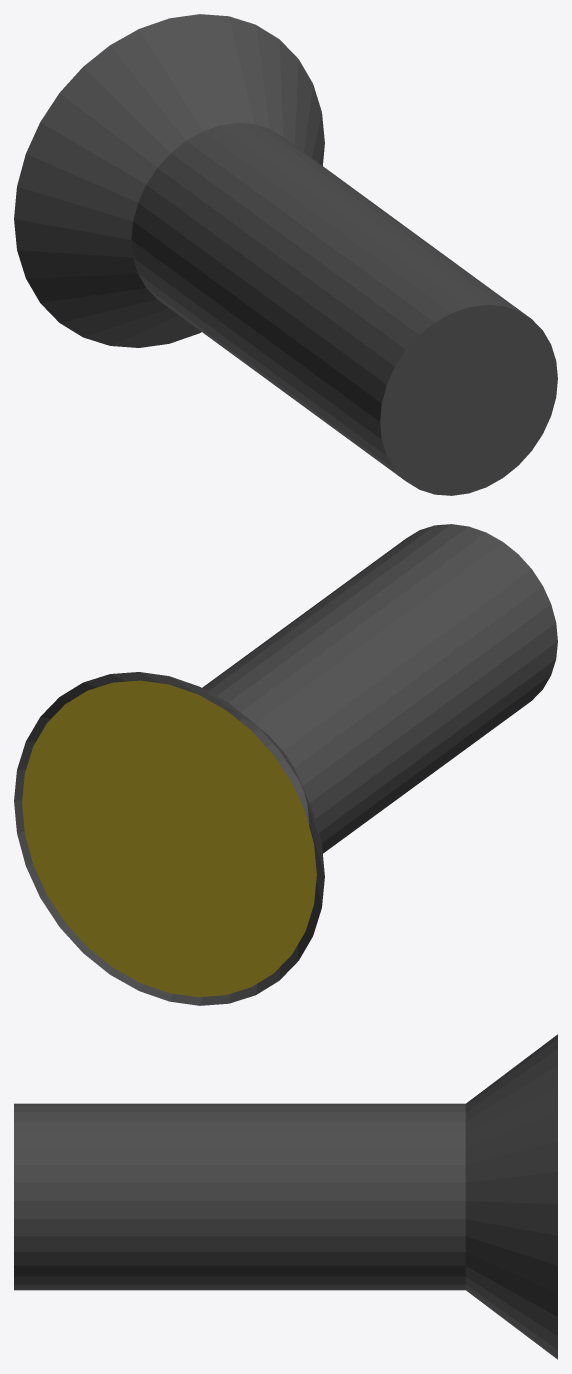
Rendered from Torch.fbx.
3 views of the same model, one above another, from view 1: azimuth 30°, elevation 25°; view 2: azimuth 150°, elevation 25°; view 3: azimuth 270°, elevation 25° (orthographic). The views are drawn at different scales.
Visible parts, largest first — view 1: Cylinder; view 2: Cylinder; view 3: Cylinder.
Boxes of the visible parts, bbox=[...] form: Cylinder: bbox=[14, 14, 557, 495]; Cylinder: bbox=[14, 524, 557, 1005]; Cylinder: bbox=[14, 1034, 557, 1359].
Size of the model in its own units: 350 by 350 by 583.
